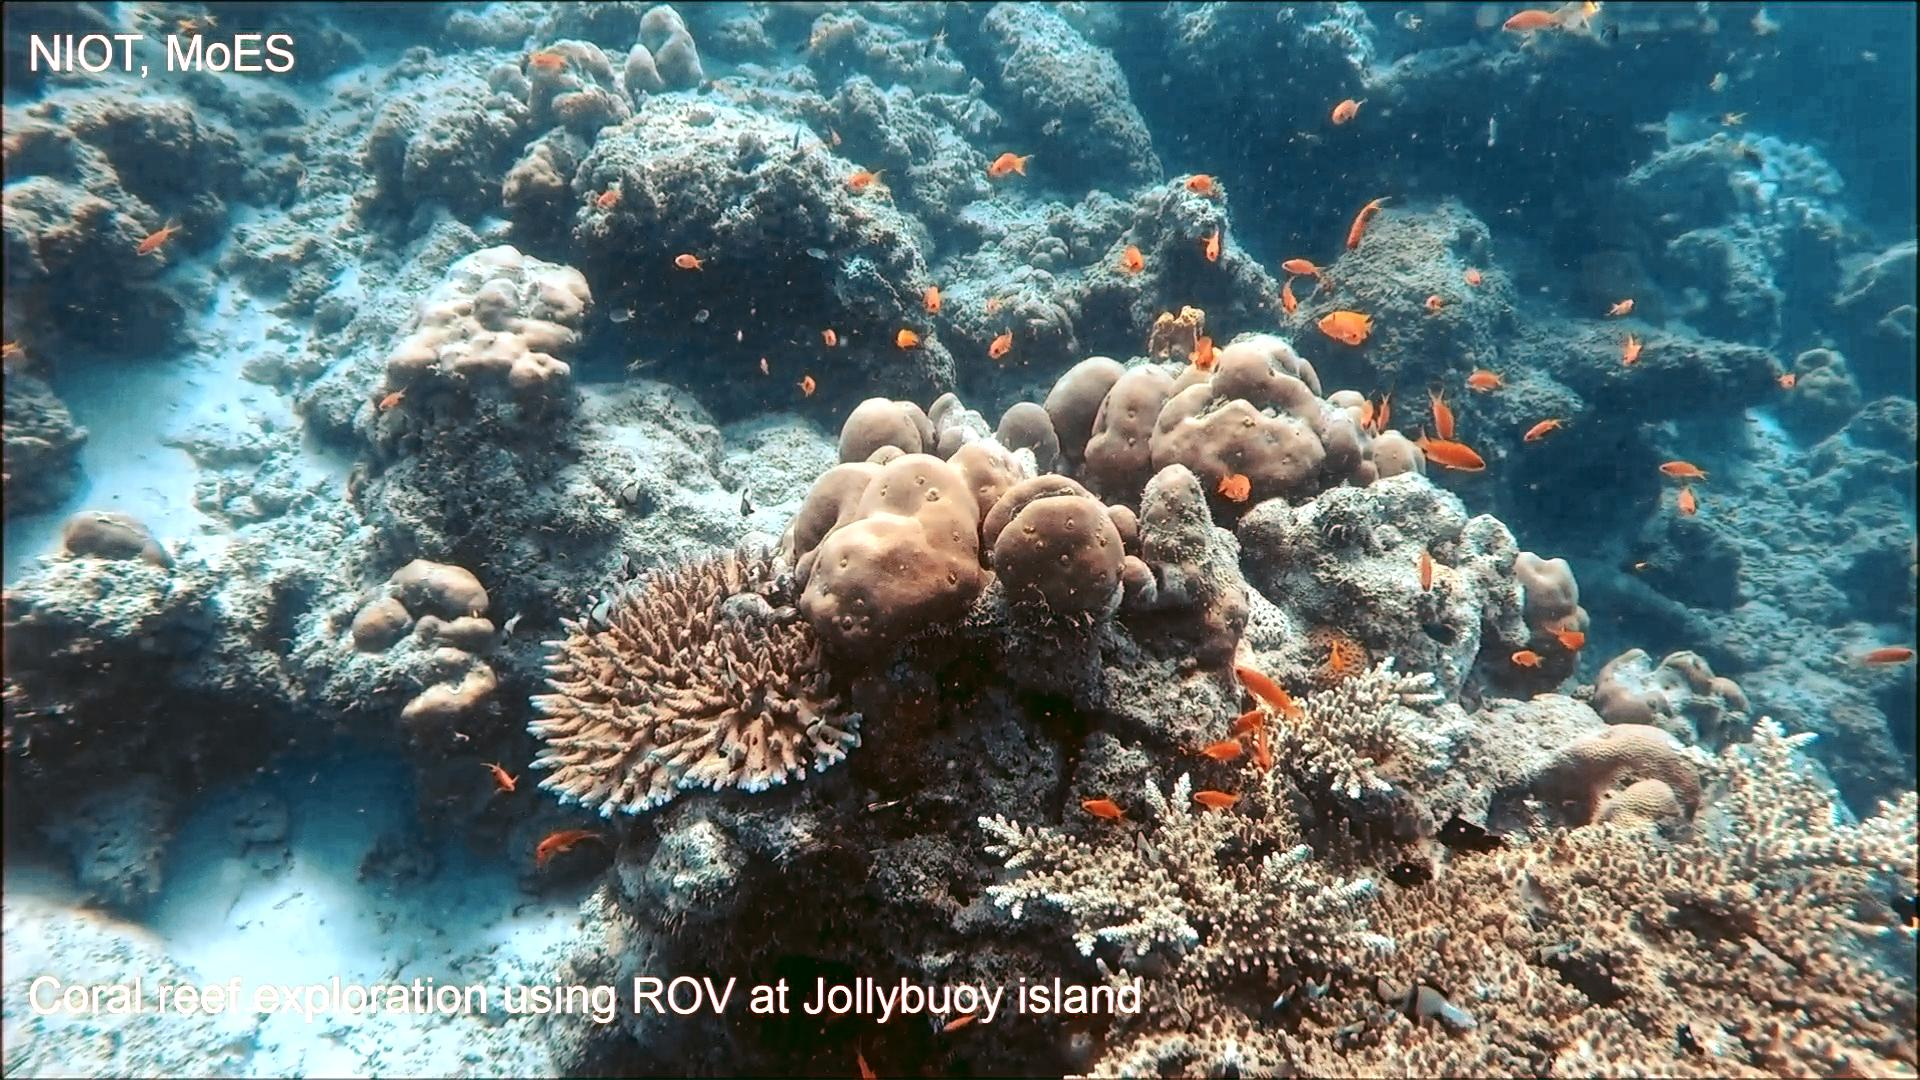Porites-Porites pukoensis: (762, 385, 1127, 662), (1026, 328, 1433, 513)
